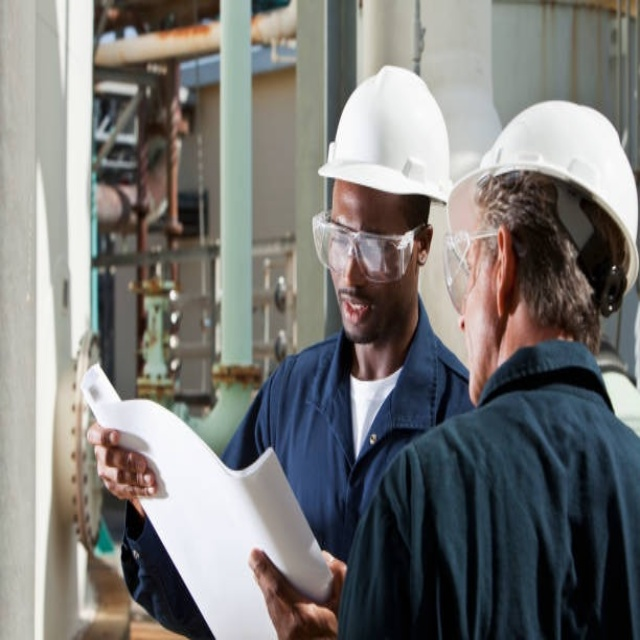Gafas: (312, 210, 424, 287), (442, 223, 494, 317)
Sin_guantes: (249, 545, 343, 640), (86, 421, 158, 505)
Sin_mascara: (337, 287, 373, 340)
